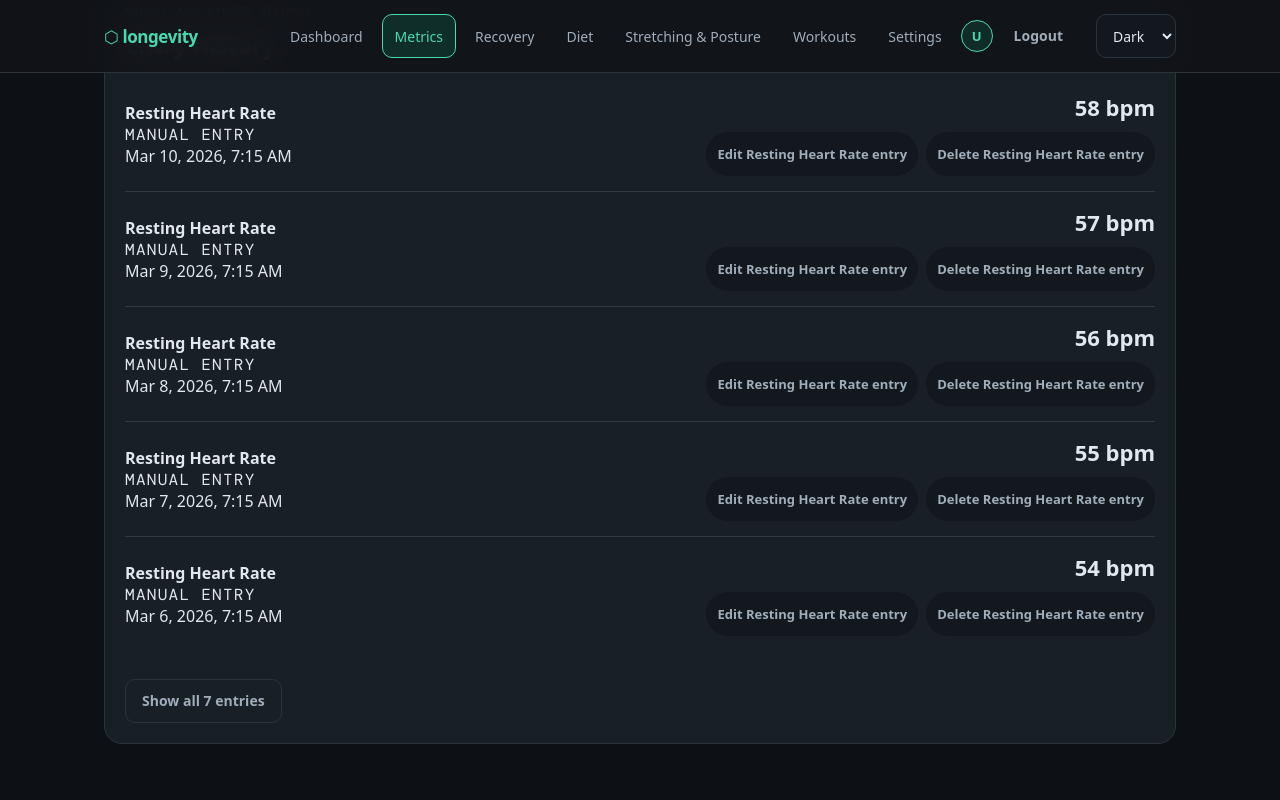
Test: metric detail route › collapses the history preview when the range filter changes
(page scrolled)
Click the button "Show all 7 entries": x=203, y=701 [125,679,282,723]
(page scrolled)
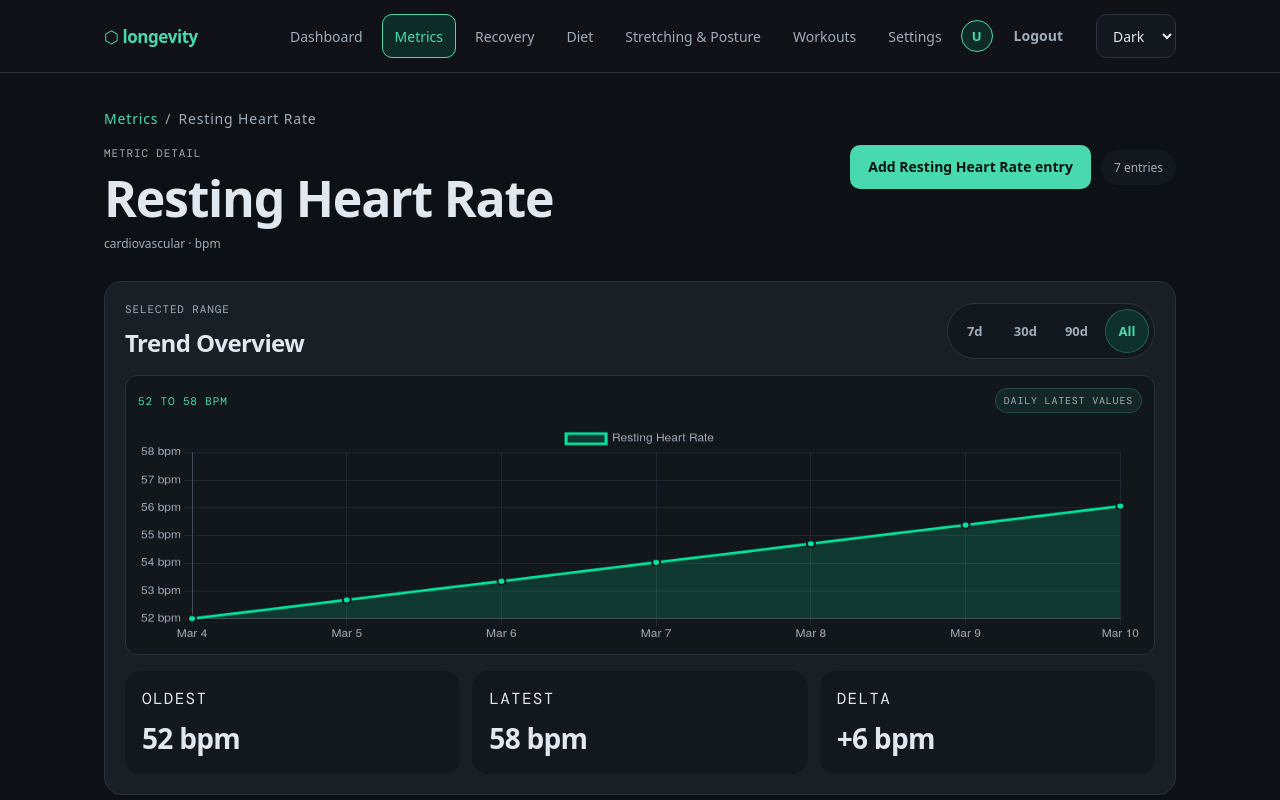
Click the button "30d": x=1025, y=331 [1003,309,1048,353]
(page scrolled)
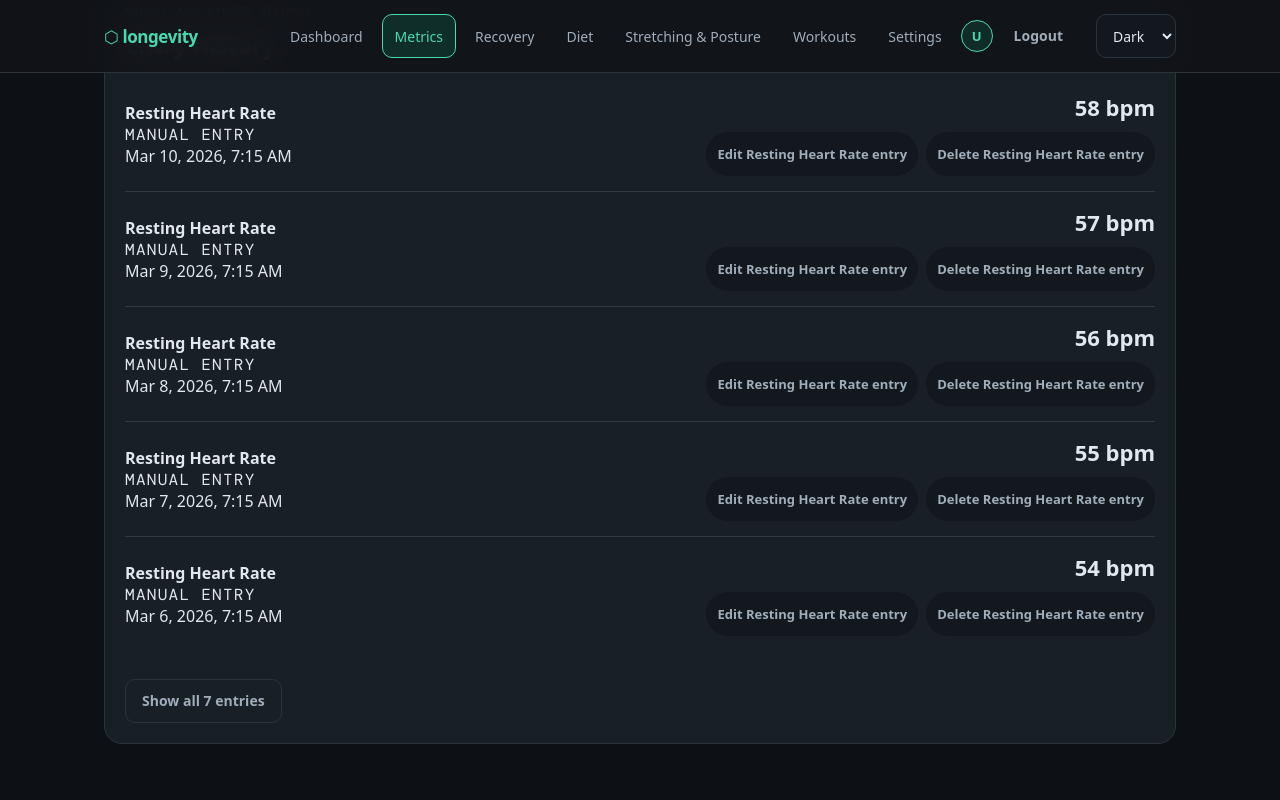
Expected: the text "52 bpm" is not shown
Expected: the button "Show all 7 entries" is shown, [125,679,282,723]
